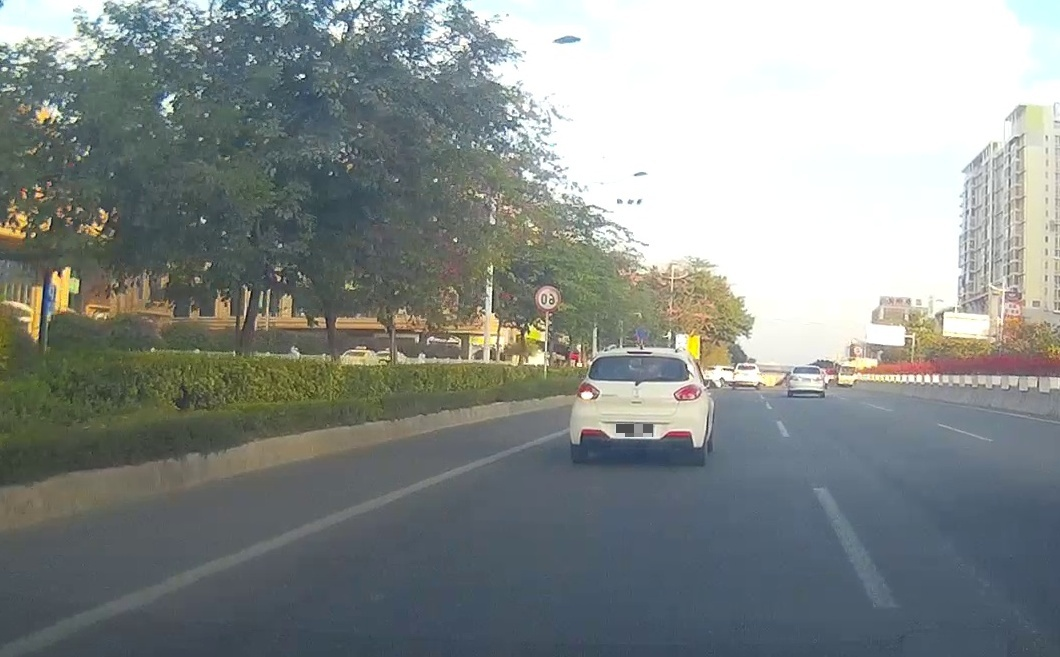L_light: (575, 380, 600, 400), (789, 375, 799, 381)
R_light: (673, 383, 702, 401), (815, 376, 823, 381)
T_light: (627, 350, 653, 355), (804, 367, 808, 369)
day-left: (568, 347, 705, 465)
day-no: (787, 365, 825, 398)
plate_1: (616, 424, 653, 437)
